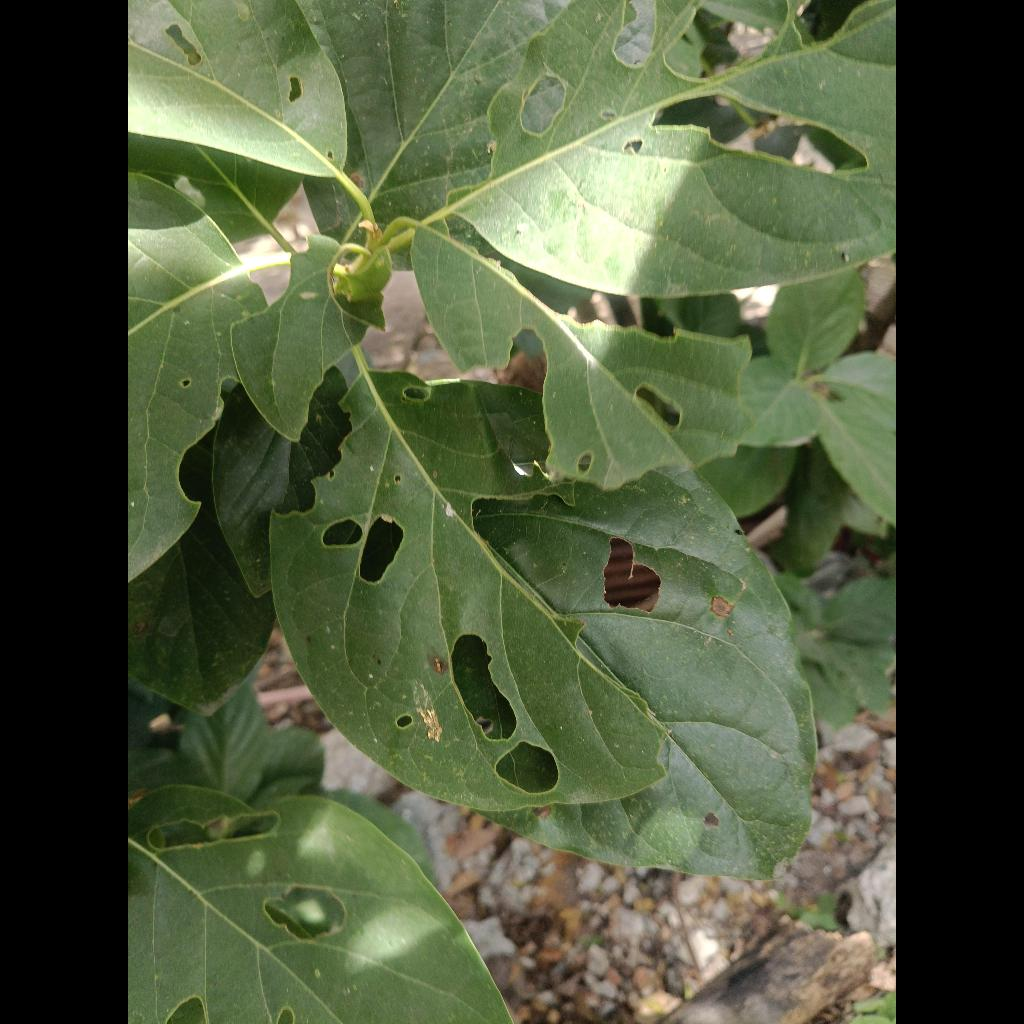Pest Infested: (412, 225, 751, 490)
